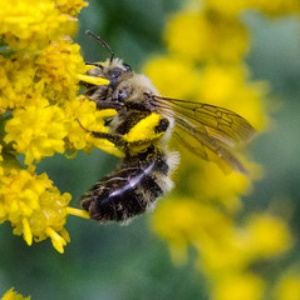bee: (79, 28, 260, 226)
